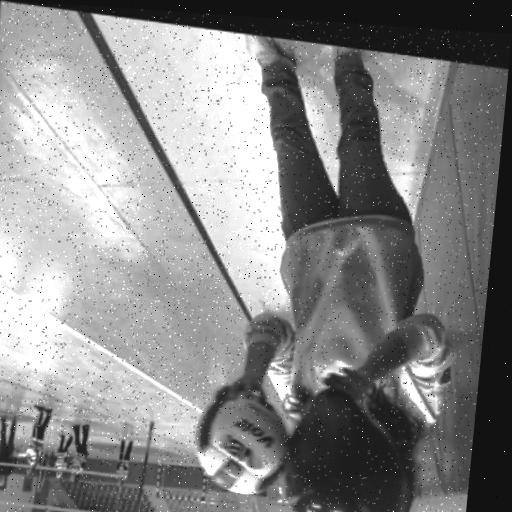balloon: (272, 376, 417, 512)
